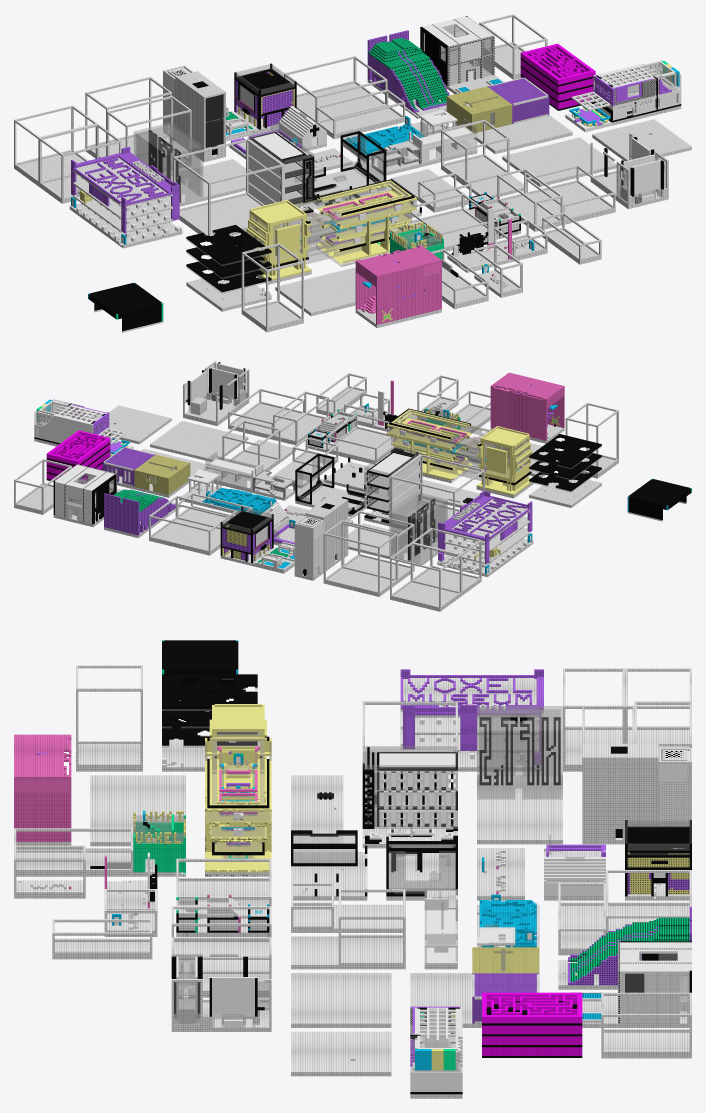
File: Midtown-v1.glb
3 renders of one model, top to bottom at view 1: azimuth 30°, elevation 25°; view 2: azimuth 150°, elevation 25°; view 3: azimuth 270°, elevation 25°, orthographic. The views are drawn at different scales.
Visible parts, largest first — view 1: solid-voxels_32.013, solid-voxels_44.013, solid-voxels_28.013, solid-voxels_43.013, solid-voxels_65.007, solid-voxels_42.013, glass-voxels_21.009, solid-voxels_53.011, solid-voxels_54.010, solid-voxels_56.010, solid-voxels_1.014, solid-voxels_45.013 (+59 smaller); view 2: solid-voxels_32.013, solid-voxels_44.013, solid-voxels_27.013, solid-voxels_28.013, solid-voxels_42.013, solid-voxels_1.014, solid-voxels_45.013, solid-voxels_54.010, solid-voxels_53.011, glass-voxels_21.009, glass-voxels_9.012, solid-voxels_23.013 (+54 smaller); view 3: solid-voxels_42.013, glass-voxels_9.012, solid-voxels_56.010, solid-voxels_27.013, solid-voxels_44.013, solid-voxels_60.010, solid-voxels_32.013, solid-voxels_28.013, solid-voxels_53.011, solid-voxels_45.013, solid-voxels_65.007, solid-voxels_23.013 (+59 smaller).
Part boxes in pixels (x1,y1,x2,y2): solid-voxels_32.013: (355,244,441,327); solid-voxels_44.013: (316,179,416,266); solid-voxels_28.013: (186,225,271,311); solid-voxels_43.013: (100,169,182,248); solid-voxels_65.007: (593,60,681,125); solid-voxels_42.013: (248,132,314,217); glass-voxels_21.009: (289,181,416,264); solid-voxels_53.011: (420,16,495,89); solid-voxels_54.010: (446,77,549,132); solid-voxels_56.010: (175,71,225,162); solid-voxels_1.014: (246,200,311,284); solid-voxels_45.013: (590,133,668,209); solid-voxels_32.013: (490,372,564,443); solid-voxels_44.013: (386,408,472,483); solid-voxels_27.013: (437,504,513,576); solid-voxels_28.013: (529,434,601,507); solid-voxels_42.013: (364,448,420,526); solid-voxels_1.014: (476,426,534,498); solid-voxels_45.013: (183,361,249,425); solid-voxels_54.010: (102,447,190,497); solid-voxels_53.011: (53,464,116,527); glass-voxels_21.009: (387,410,495,480); glass-voxels_9.012: (389,492,447,563); solid-voxels_23.013: (220,506,273,565); solid-voxels_42.013: (362,747,457,848); glass-voxels_9.012: (477,706,562,799); solid-voxels_56.010: (582,743,658,844); solid-voxels_27.013: (462,669,543,771); solid-voxels_44.013: (205,759,271,876); solid-voxels_60.010: (482,992,582,1057); solid-voxels_32.013: (14,734,71,845); solid-voxels_28.013: (162,674,257,771); solid-voxels_53.011: (615,941,691,1027); solid-voxels_45.013: (171,953,271,1031); solid-voxels_65.007: (410,1006,462,1098); solid-voxels_23.013: (625,820,691,900).
Bounding box in the file's own units: 212 × 20 × 142.
Materials: 2 (1 with a texture image).
